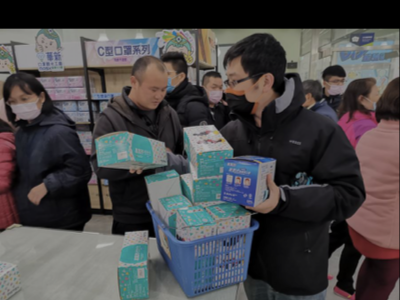with_mask: (224, 72, 260, 121), (7, 92, 42, 121), (207, 80, 224, 105), (327, 76, 347, 94)
without_mask: (137, 83, 168, 110)
